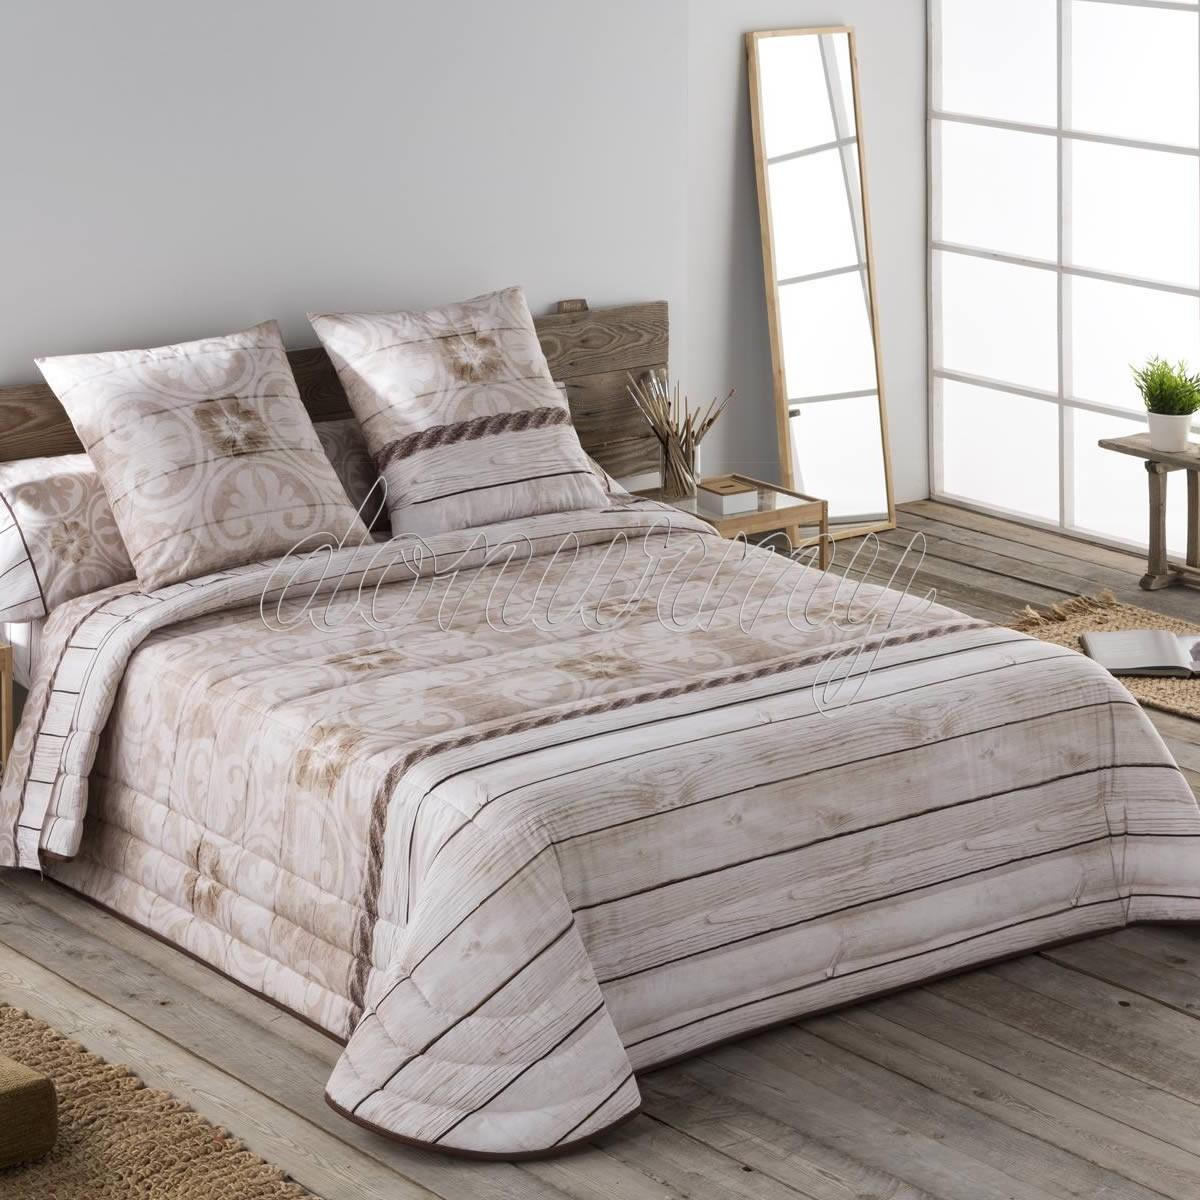bed: (0, 285, 940, 910)
